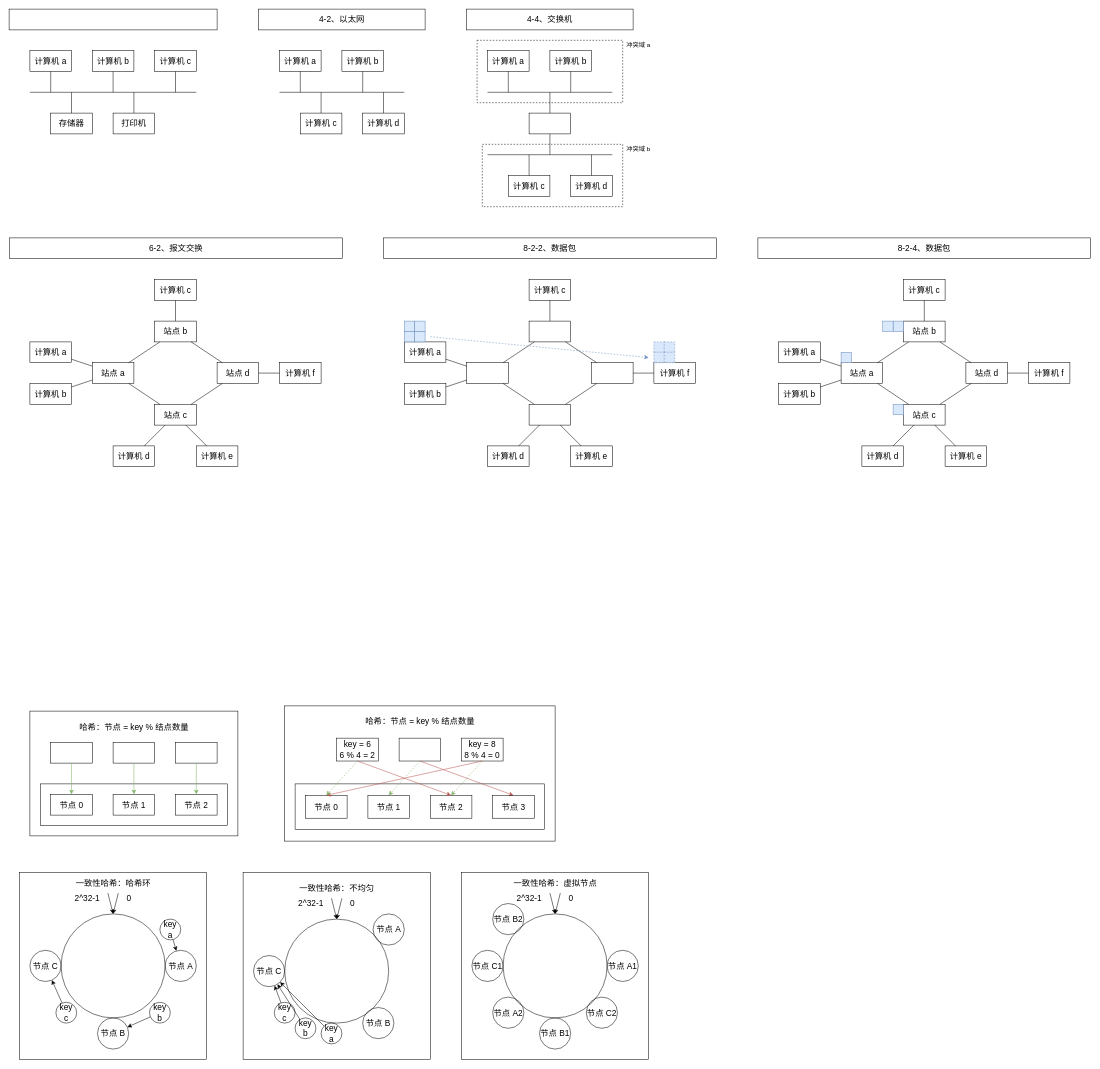
The diagram is 1100 pixels wide and 1069 high, and some of its shapes have lost their labels. The shapes that lost their labels are listed below. From the top down, each one's centre as x and y in pixels, then its label:
the point at 113,19: 2-2、共享硬件资源
the point at 550,123: 交换机
the point at 550,331: 路由器 b
the point at 487,373: 路由器 a
the point at 612,373: 路由器 d
the point at 550,414: 路由器 c
the point at 71,752: key = 6 6 % 3 = 0
the point at 134,752: key = 7 7 % 3 = 1
the point at 196,752: key = 8 8 % 3 = 2
the point at 420,749: key = 7 7 % 4 = 3
